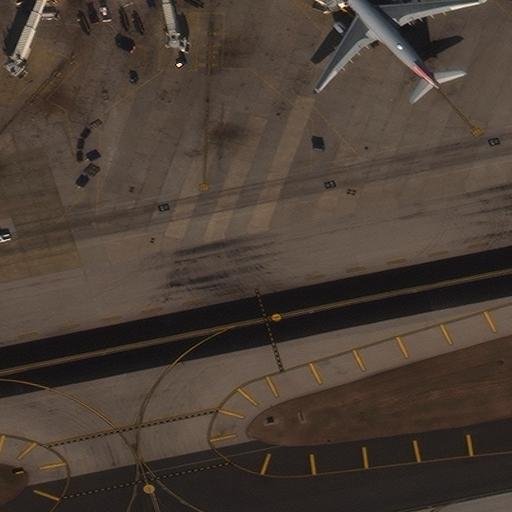Large Civil Transport: (315, 0, 478, 88)
